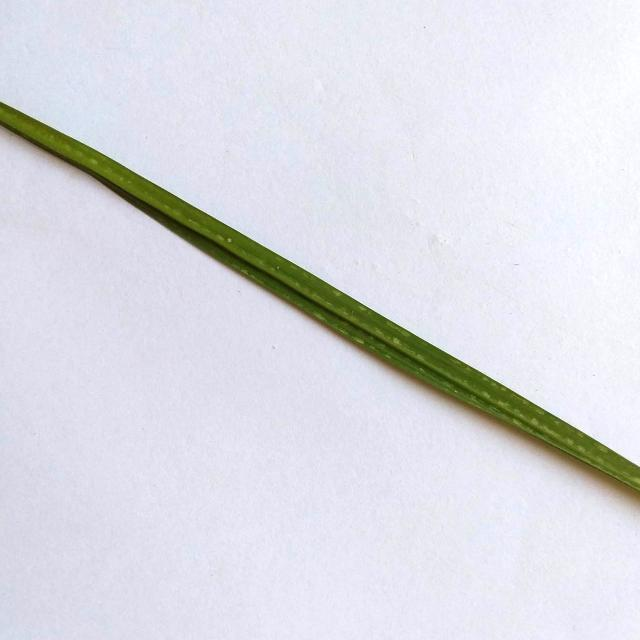Rice_Healthy: (0, 103, 640, 490)
